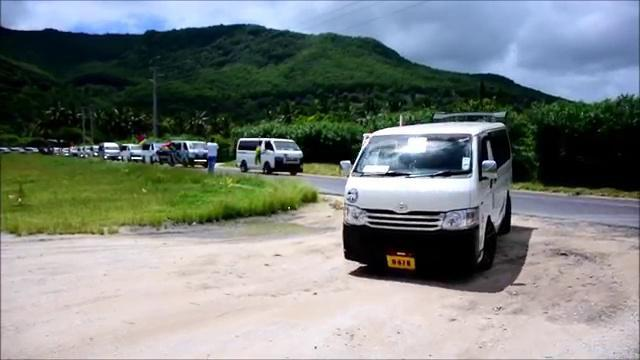van: (333, 112, 513, 280), (236, 132, 311, 181)
